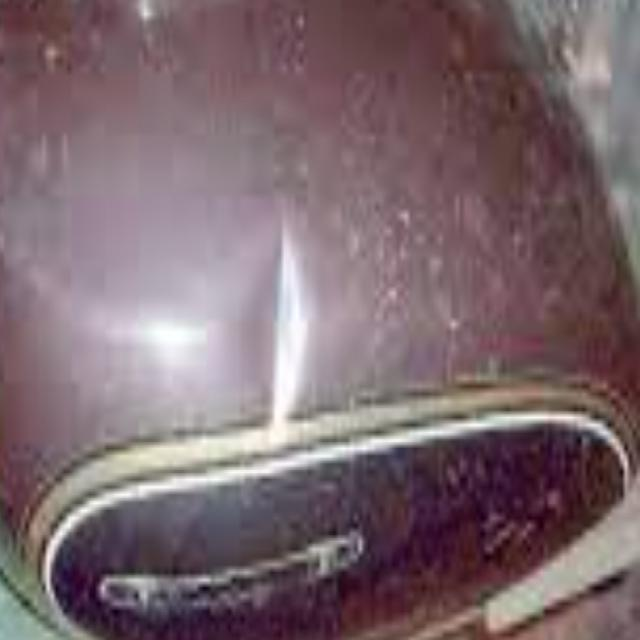dents: (240, 231, 335, 443)
